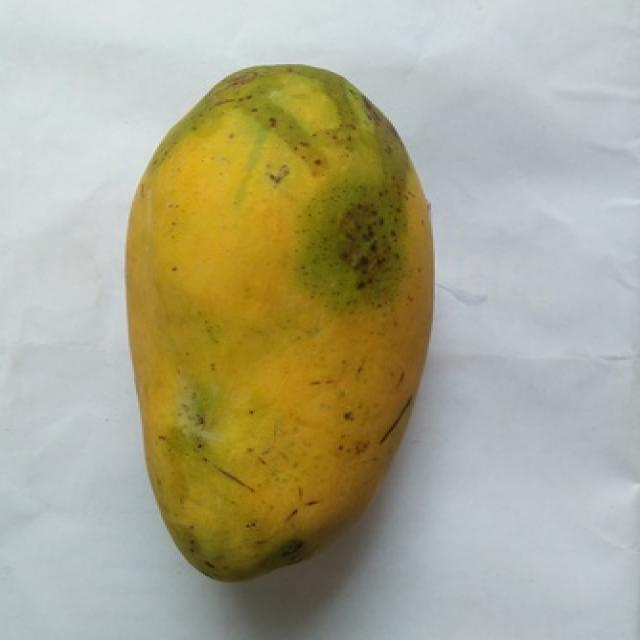Mango: (128, 66, 431, 579)
objects: (123, 61, 435, 582)
